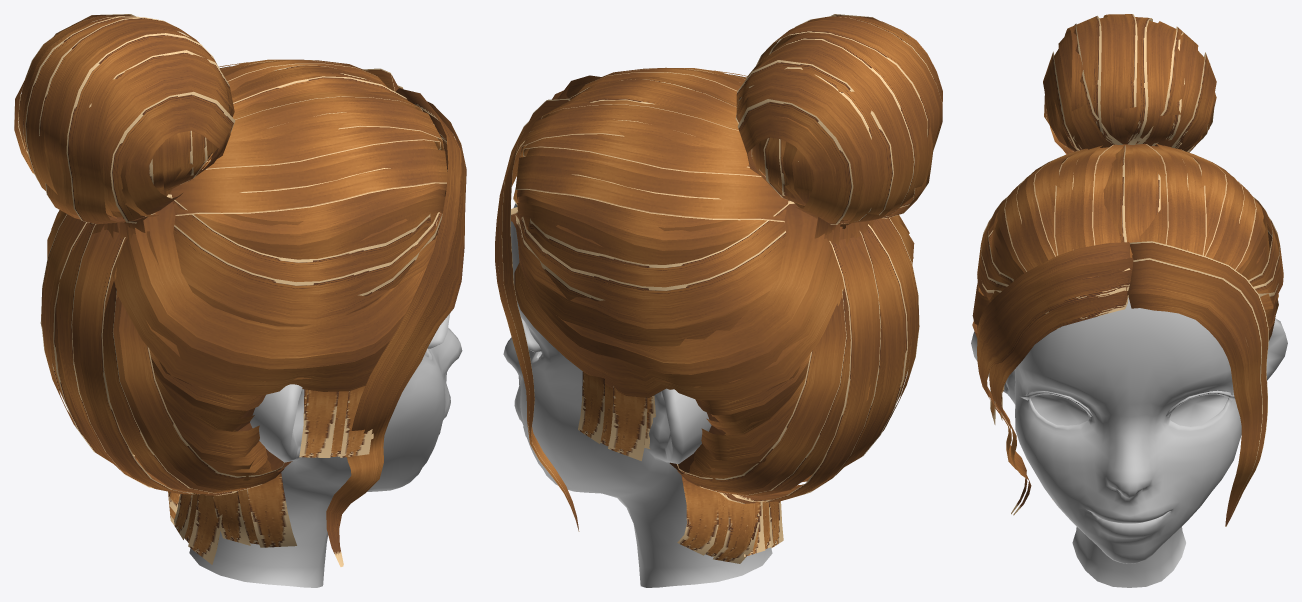
Rendered from hair_1.FBX.
The picture shows the model from 3 angles, left to right: view 1: azimuth 30°, elevation 25°; view 2: azimuth 150°, elevation 25°; view 3: azimuth 270°, elevation 25°; orthographic projection. The views are drawn at different scales.
Visible parts, largest first — view 1: Line061, Line058, char_1_head003, Line060, Line070, Line071, Loft002, Line063, Shape007, Line059, Line073, Line078 (+8 smaller); view 2: Line083, Line080, char_1_head003, Line082, Line074, Line073, Line081, Shape012, Line069, Line063, Line070, Loft003 (+6 smaller); view 3: char_1_head003, Loft003, Loft002, Line058, Line080, Line070, Line073, Line074, Line071, Line057, Line082, Line060 (+3 smaller).
Boxes of the visible parts, box(x1,y1,x2,y2) form: Line061: box(92, 194, 426, 480); Line058: box(169, 92, 447, 215); char_1_head003: box(189, 313, 462, 587); Line060: box(170, 196, 442, 326); Line070: box(39, 17, 229, 224); Line071: box(89, 50, 235, 223); Loft002: box(326, 88, 466, 566); Line063: box(56, 220, 237, 495); Shape007: box(102, 281, 284, 493); Line059: box(191, 179, 446, 259); Line073: box(18, 15, 139, 194); Line078: box(212, 472, 296, 547); Line083: box(514, 200, 870, 482); Line080: box(513, 100, 788, 222); char_1_head003: box(503, 203, 772, 587); Line082: box(511, 202, 789, 346); Line074: box(736, 60, 893, 224); Line073: box(735, 32, 932, 223); Line081: box(517, 184, 770, 264); Shape012: box(677, 288, 850, 496); Line069: box(719, 231, 885, 503); Line063: box(802, 218, 919, 481); Line070: box(756, 16, 942, 218); Loft003: box(495, 98, 579, 531); char_1_head003: box(971, 297, 1287, 587); Loft003: box(1127, 241, 1268, 526); Loft002: box(977, 242, 1133, 515); Line058: box(1004, 144, 1130, 271); Line080: box(1130, 143, 1256, 269); Line070: box(1065, 14, 1141, 144); Line073: box(1116, 17, 1183, 145); Line074: box(1136, 26, 1216, 152); Line071: box(1043, 23, 1123, 154); Line057: box(1103, 145, 1160, 257); Line082: box(1248, 197, 1283, 328); Line060: box(977, 197, 1013, 302).
Size of the model in its own units: 33.58 by 45.31 by 26.48.
